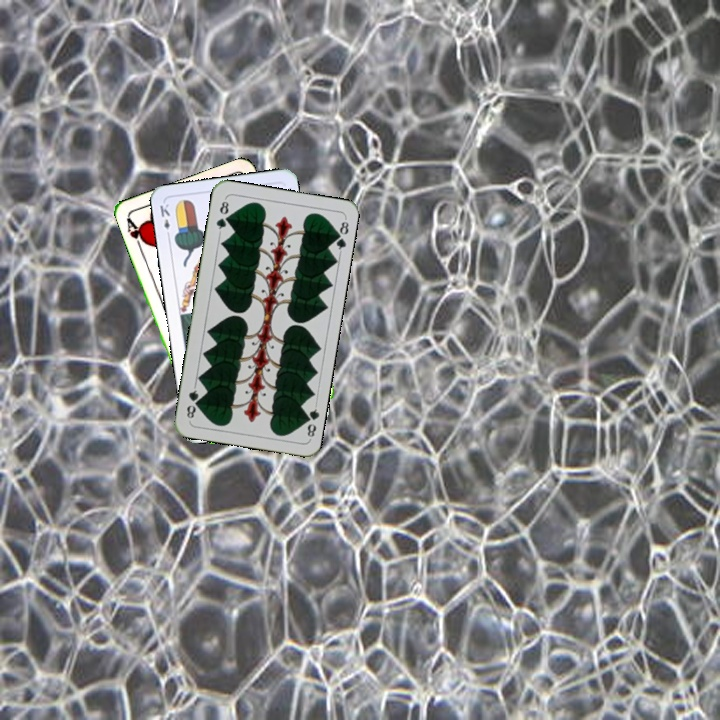EK: (156, 200, 173, 241)
G8: (299, 401, 321, 441), (212, 195, 231, 235)
HA: (122, 214, 149, 253)
